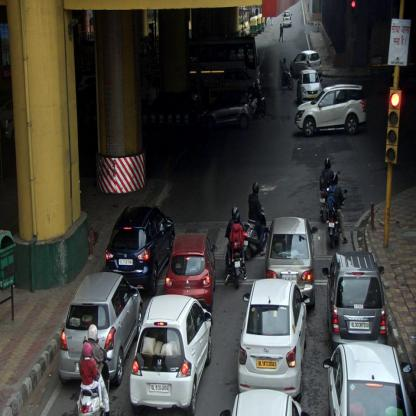bus: (191, 34, 262, 92)
car: (57, 270, 144, 386), (129, 295, 212, 414), (238, 279, 311, 397), (322, 343, 413, 415), (106, 205, 176, 298), (322, 250, 388, 344), (263, 216, 317, 306), (165, 233, 218, 310), (296, 84, 368, 136), (198, 93, 250, 130), (288, 48, 324, 81), (219, 67, 262, 94), (295, 70, 322, 106), (282, 11, 292, 28)
motorcycle: (74, 324, 112, 416), (243, 183, 270, 260), (223, 206, 248, 286), (327, 173, 349, 247), (318, 159, 335, 221), (277, 61, 293, 90)
